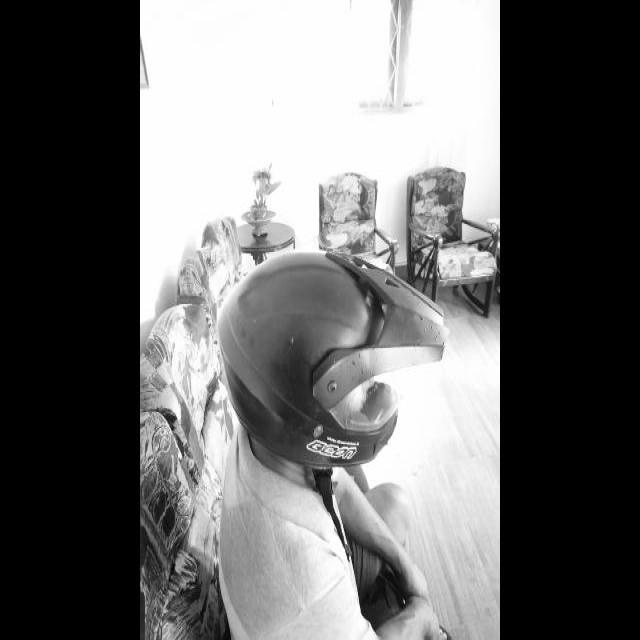5_casco: (217, 250, 448, 467)
